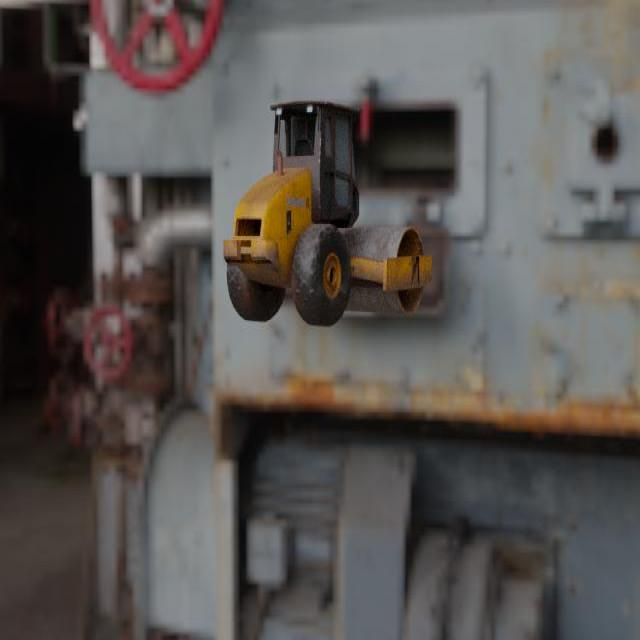Roller: (222, 98, 432, 326)
